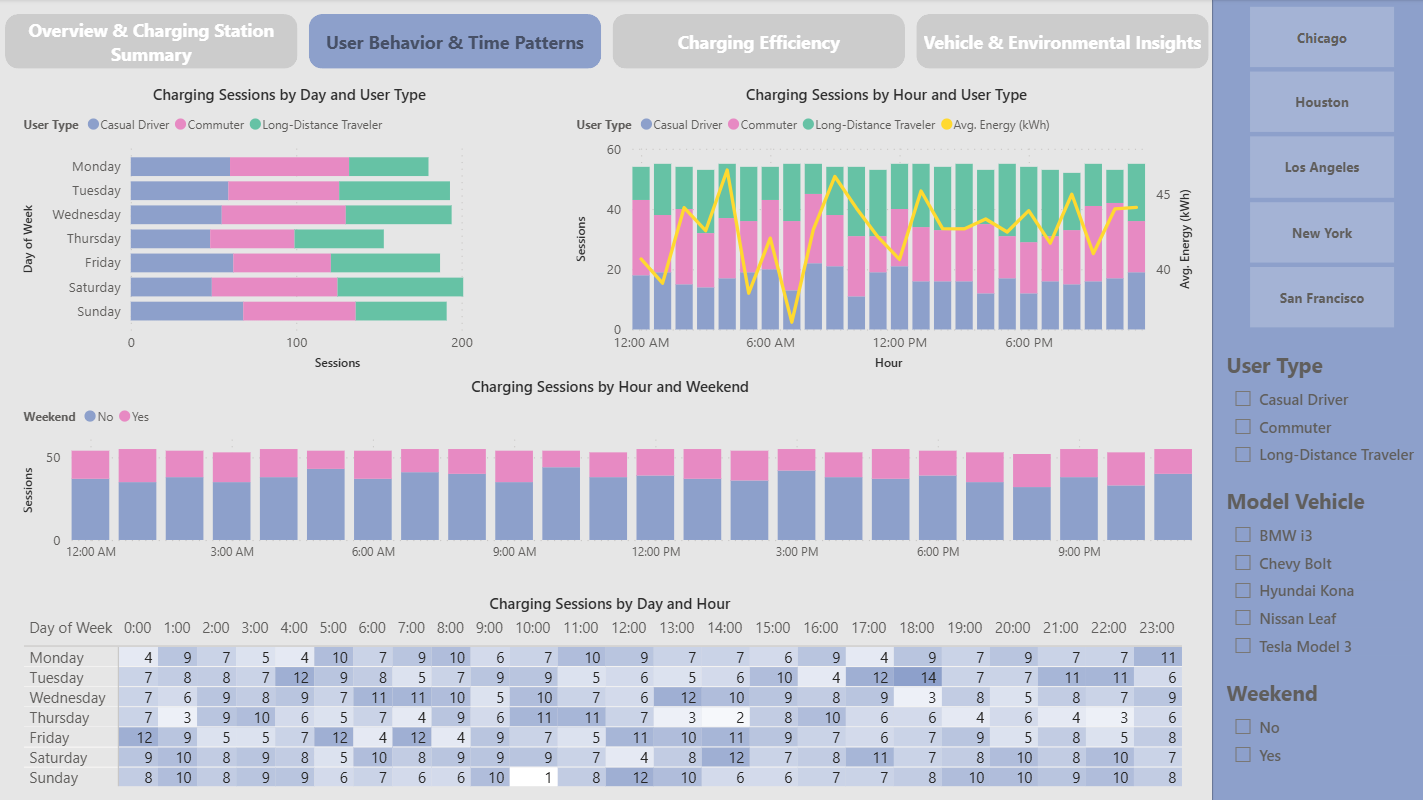

What the dashboard file says about the page in this screenshot:
{"tool":"powerbi","page":{"name":"User Behavior & Time Patterns","canvas":[1280,720],"ordinal":1},"visuals":[{"type":"shape","box":[1085.4,0,194.3,720],"z":1000},{"type":"slicer","fields":{"Values":["EV Charging.Charging Station Location"]},"box":[1093.4,0,179.1,300.9],"z":2000},{"type":"slicer","title":"Model Vehicle","fields":{"Values":["EV Charging.Vehicle Model"]},"box":[1093.4,437,178.2,164.8],"z":3000},{"type":"slicer","title":"User Type","fields":{"Values":["EV Charging.User Type"]},"box":[1093.4,315.2,178.2,110.1],"z":4000},{"type":"barChart","title":"Charging Sessions by Day and User Type","fields":{"Y":["Metrics.Sessions Count"],"Series":["EV Charging.User Type"],"Category":["EV Charging.Day of Week"]},"box":[16.1,76.1,486.3,261.5],"z":5000},{"type":"lineStackedColumnComboChart","title":"Charging Sessions by Hour and User Type","fields":{"Category":["EV Charging.Charging Starting Hour"],"Series":["EV Charging.User Type"],"Y":["Metrics.Sessions Count"],"Y2":["Metrics.Avg Energy"]},"box":[511.3,76.1,565.1,261.5],"z":6000},{"type":"pivotTable","title":"Charging Sessions by Day and Hour","fields":{"Columns":["EV Charging.Charging Starting Hour"],"Values":["Metrics.Sessions Count"],"Rows":["EV Charging.Day of Week"]},"box":[16.1,531.9,1060.3,181.8],"z":7000},{"type":"columnChart","title":"Charging Sessions by Hour  and Weekend","fields":{"Y":["Metrics.Sessions Count"],"Category":["EV Charging.Charging Starting Hour"],"Series":["EV Charging.Weekend"]},"box":[16.1,337.6,1060.3,175.5],"z":8000},{"type":"slicer","title":"Weekend","fields":{"Values":["EV Charging.Weekend"]},"box":[1093.4,609,178.2,86],"z":9000},{"type":"pageNavigator","box":[4.5,13.4,1079.1,49.3],"z":9001}]}

Visuals, with their boxes in screenshot pixels (x1, y1, x2, y2), scaled from the page's 1280x720 canvas onto the 1423x800 screenshot:
shape: bbox(1207, 0, 1422, 799)
slicer - EV Charging.Charging Station Location: bbox(1216, 0, 1415, 334)
"Model Vehicle" slicer: bbox(1216, 486, 1414, 669)
"User Type" slicer: bbox(1216, 350, 1414, 473)
"Charging Sessions by Day and User Type" barChart: bbox(18, 85, 559, 375)
"Charging Sessions by Hour and User Type" lineStackedColumnComboChart: bbox(568, 85, 1197, 375)
"Charging Sessions by Day and Hour" pivotTable: bbox(18, 591, 1197, 793)
"Charging Sessions by Hour  and Weekend" columnChart: bbox(18, 375, 1197, 570)
"Weekend" slicer: bbox(1216, 677, 1414, 772)
pageNavigator: bbox(5, 15, 1205, 70)
